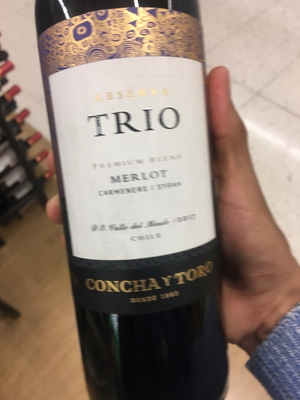trio merlot: (37, 4, 241, 386)
